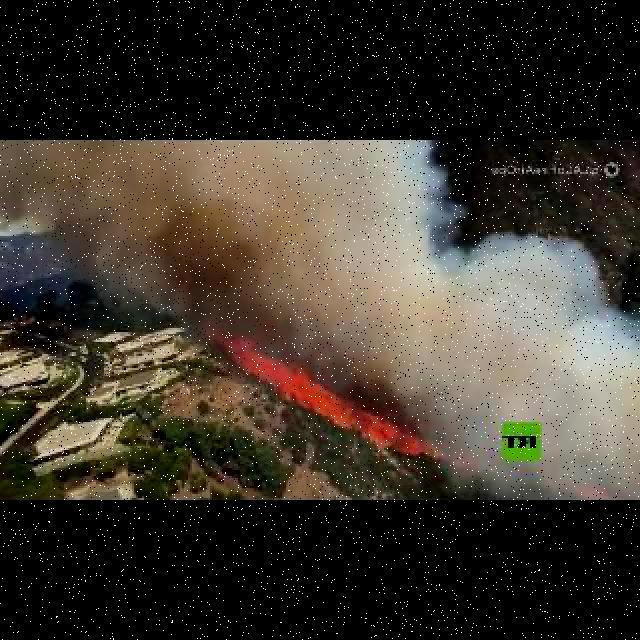Fire: (214, 332, 434, 456)
Smoke: (150, 192, 303, 366)
